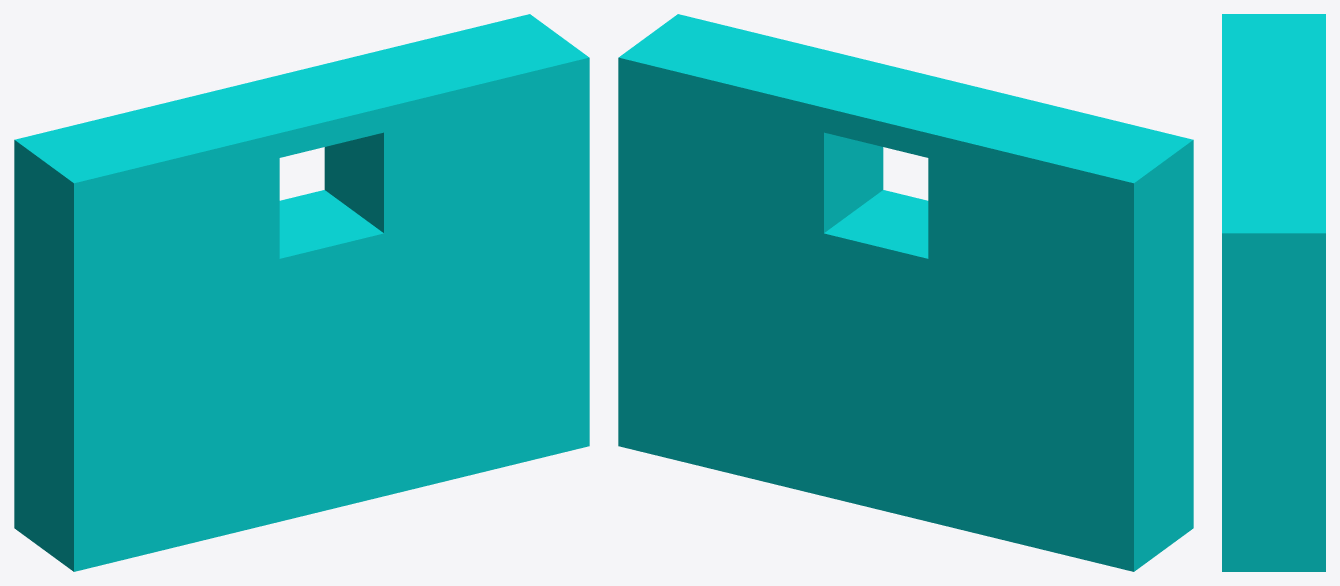
The model's file is SM_Bld_Grandstand_Wall_Doorway_02_Collision.fbx.
3 views of the same model, side by side, from view 1: azimuth 30°, elevation 25°; view 2: azimuth 150°, elevation 25°; view 3: azimuth 270°, elevation 25° (orthographic). The views are drawn at different scales.
Visible parts, largest first — view 1: SM_Bld_Grandstand_Wall_Doorway_02_Collision; view 2: SM_Bld_Grandstand_Wall_Doorway_02_Collision; view 3: SM_Bld_Grandstand_Wall_Doorway_02_Collision.
Part boxes in pixels (box(x1,y1,x2,y2)): SM_Bld_Grandstand_Wall_Doorway_02_Collision: box(14, 14, 589, 571); SM_Bld_Grandstand_Wall_Doorway_02_Collision: box(618, 14, 1193, 571); SM_Bld_Grandstand_Wall_Doorway_02_Collision: box(1222, 14, 1325, 571).
Size of the model in its own units: 1250 by 901 by 250.
